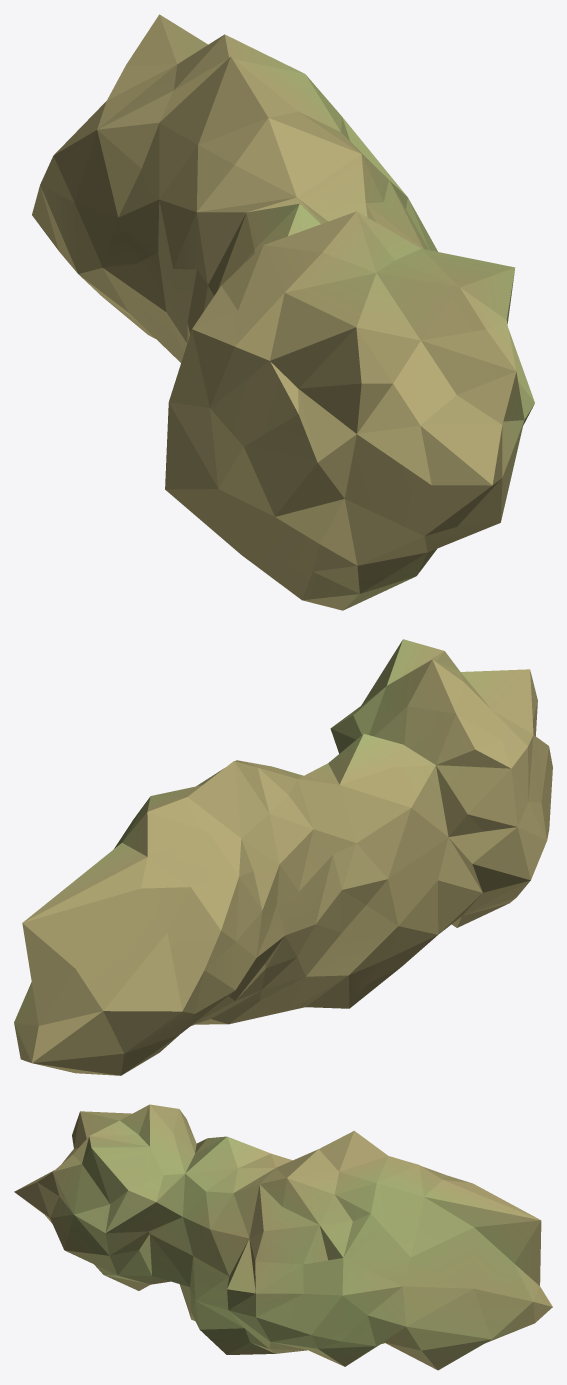
3 renders of one model, top to bottom at view 1: azimuth 30°, elevation 25°; view 2: azimuth 150°, elevation 25°; view 3: azimuth 270°, elevation 25°, orthographic. The views are drawn at different scales.
Size of the model in its own units: 9.07 by 8.57 by 19.11.
